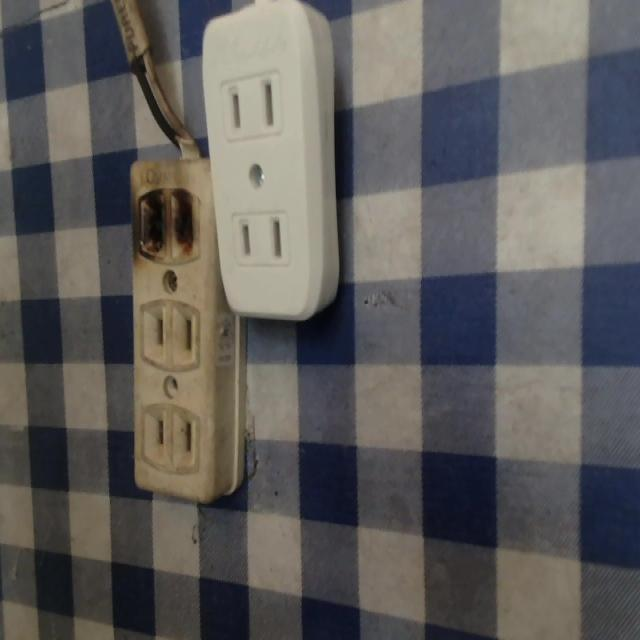-: (130, 176, 209, 272)
